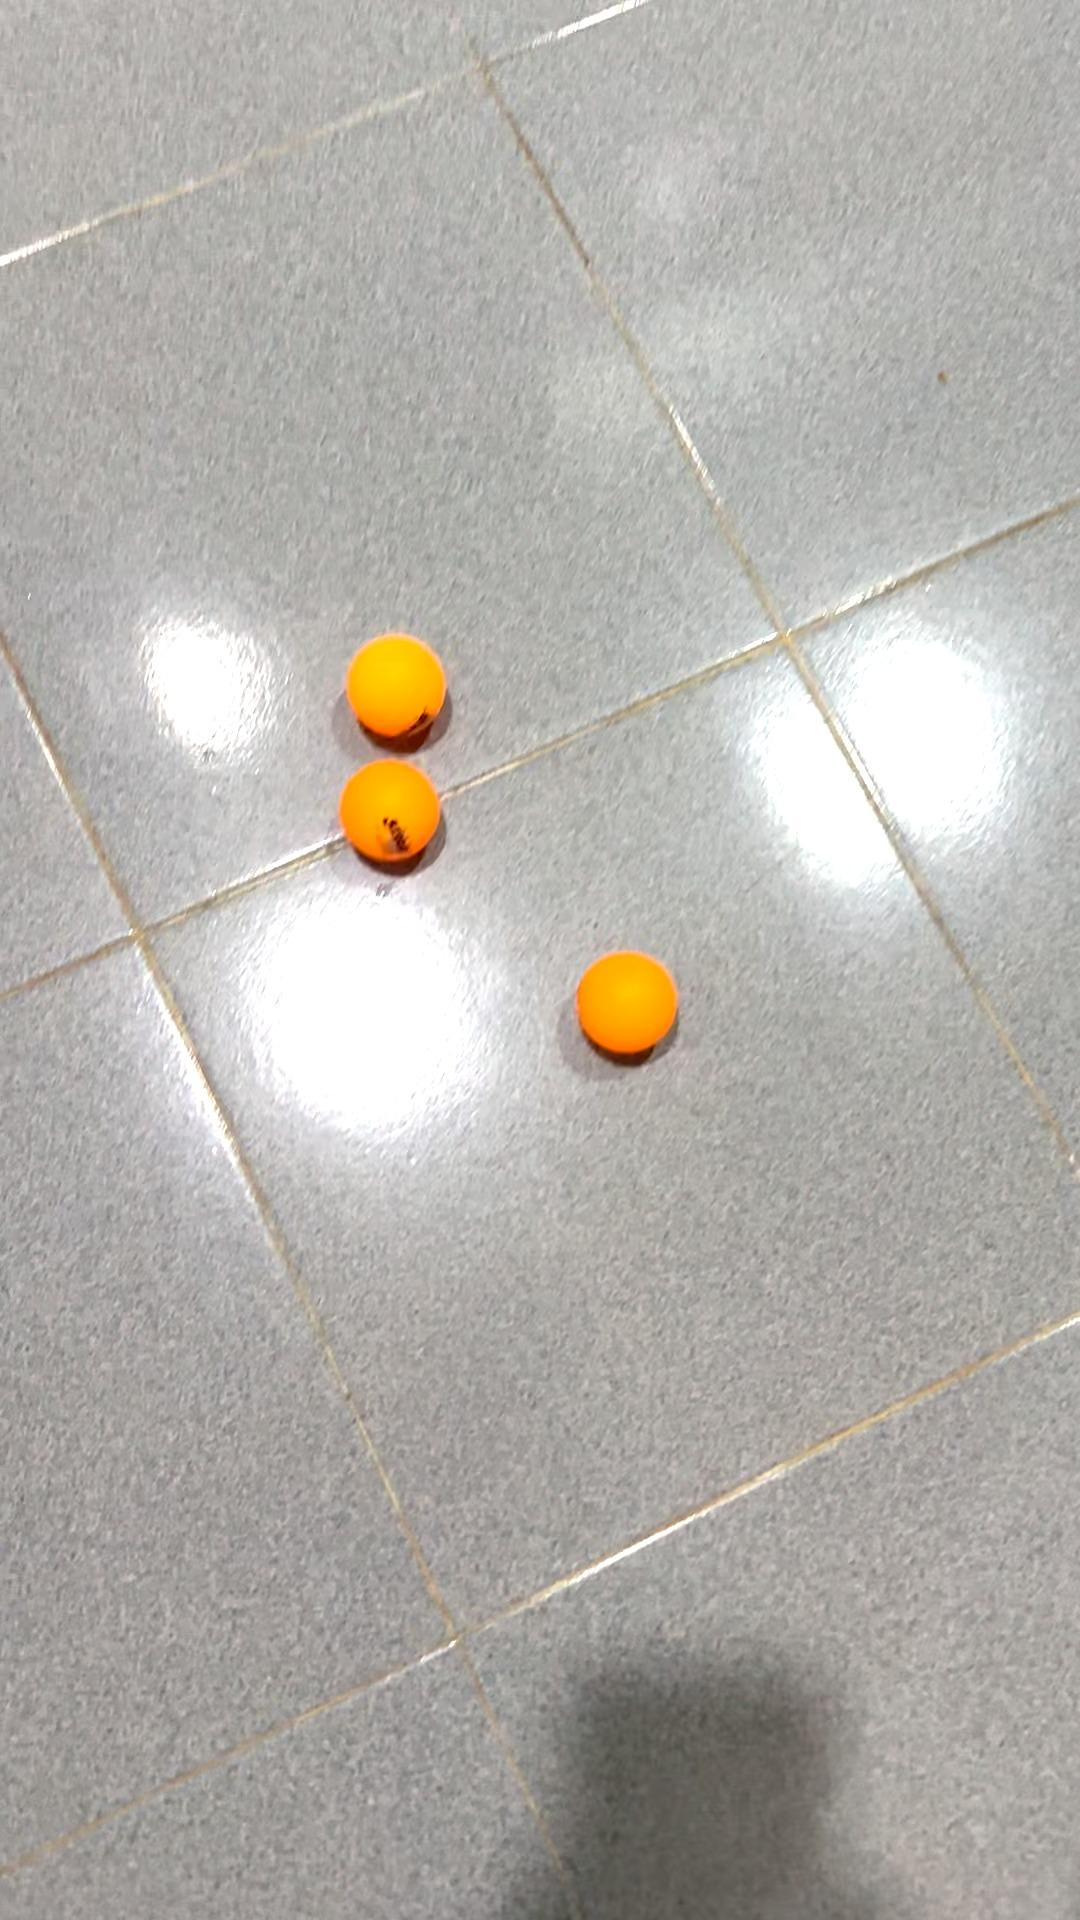oball: (331, 625, 465, 760), (562, 948, 698, 1075), (328, 754, 464, 880)
